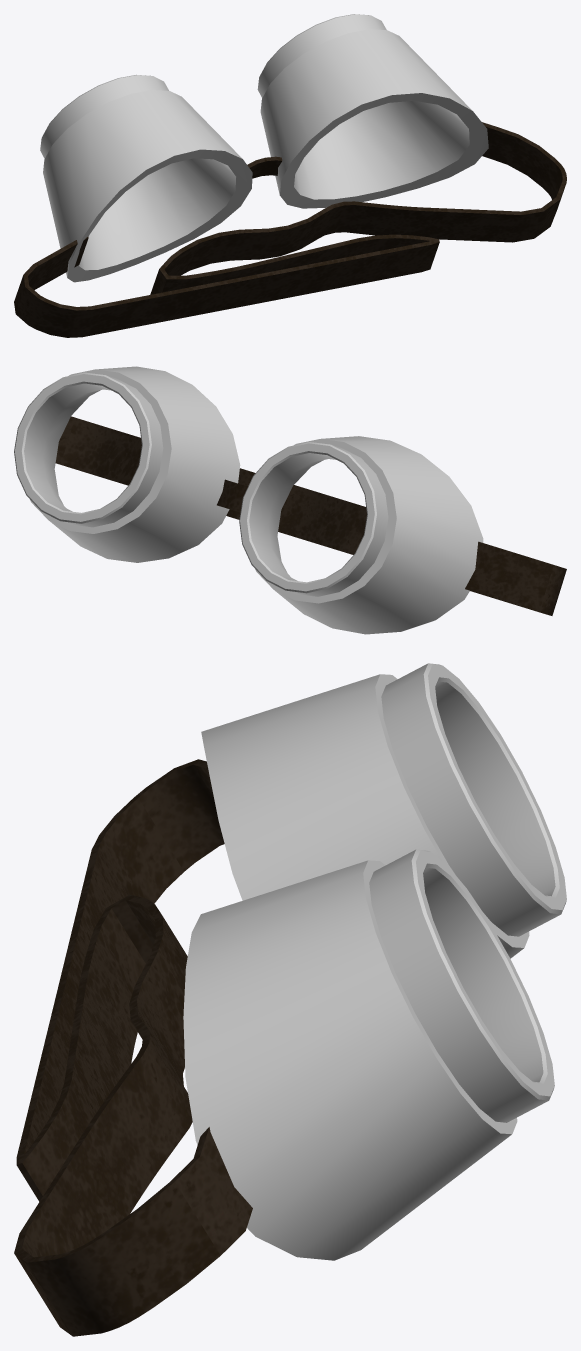
File: lunette.fbx
3 views of the same model, one above another, from view 1: azimuth 30°, elevation 25°; view 2: azimuth 150°, elevation 25°; view 3: azimuth 270°, elevation 25° (orthographic). The views are drawn at different scales.
Parts seen in each view (by area): view 1: Plane; view 2: Plane; view 3: Plane.
Boxes of the visible parts, box(x1,y1,x2,y2) form: Plane: box(14, 14, 566, 337); Plane: box(14, 366, 566, 634); Plane: box(14, 663, 566, 1336).
Size of the model in its own units: 15.13 by 5.37 by 7.06.
